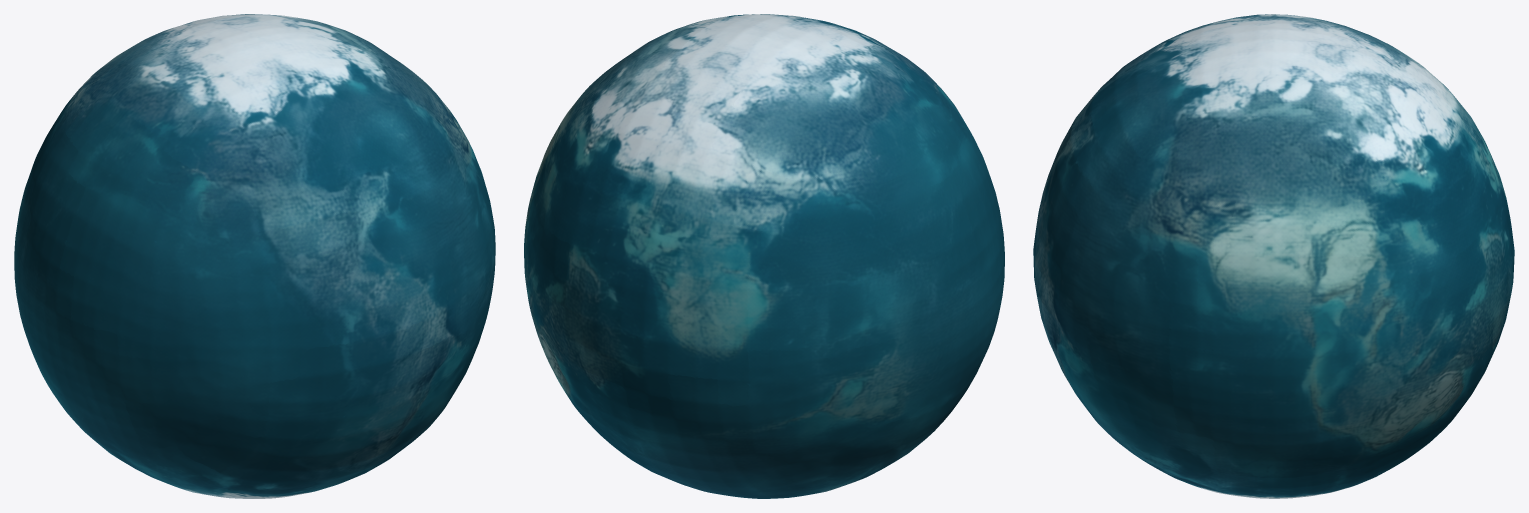
3 views of the same model, side by side, from view 1: azimuth 30°, elevation 25°; view 2: azimuth 150°, elevation 25°; view 3: azimuth 270°, elevation 25° (orthographic).
Parts seen in each view (by area): view 1: world; view 2: world; view 3: world.
Part boxes in pixels (x1=…): world: x1=14, y1=14, x2=495, y2=498; world: x1=524, y1=14, x2=1004, y2=498; world: x1=1033, y1=14, x2=1514, y2=498.
Size of the model in its own units: 1 by 1 by 1.
Materials: 1 (1 with a texture image).
